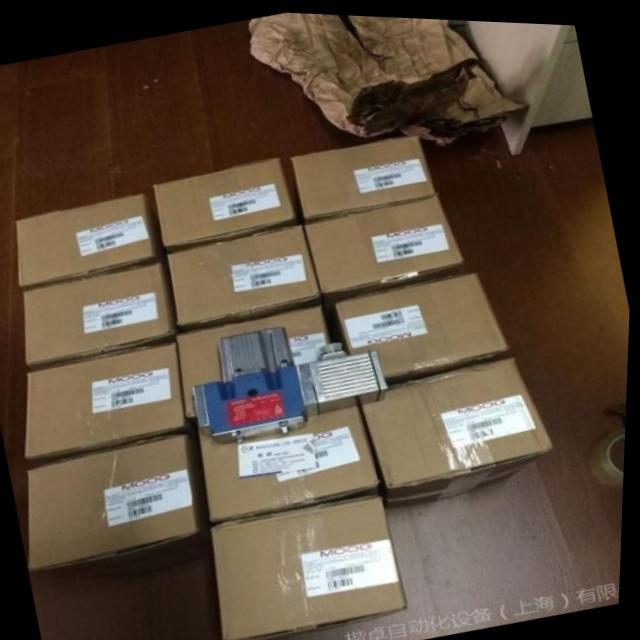box: (214, 484, 412, 640), (365, 344, 557, 504), (190, 400, 385, 530), (31, 432, 202, 570), (323, 268, 513, 384), (29, 332, 192, 458), (303, 190, 474, 299), (23, 253, 179, 370), (166, 222, 327, 331), (179, 301, 329, 415), (18, 191, 168, 286), (154, 154, 303, 245), (293, 129, 437, 221)
